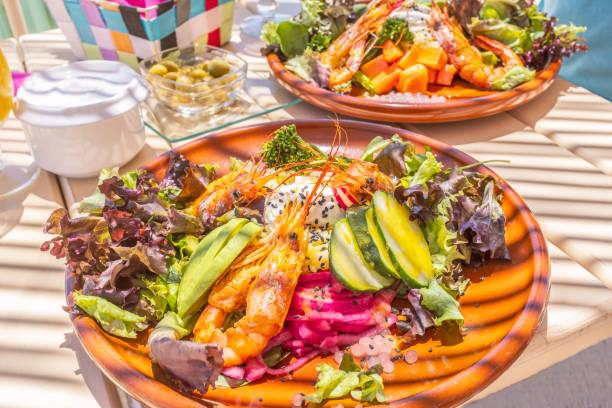Braised Crucian Carp: (64, 118, 550, 403), (268, 0, 560, 122)
